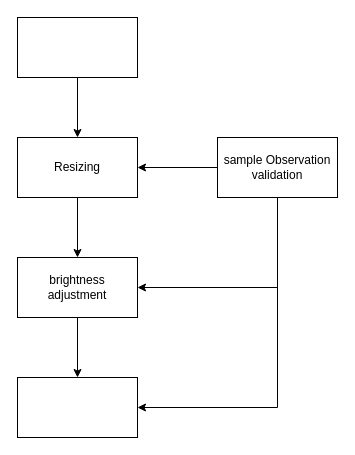
Image size: 355x455. Some labels were removed from this diagram. Here are the shapes that lost their labels. From the top down, the centre of each, then its label:
point 77,47: Input some Images
point 77,407: enhancement
